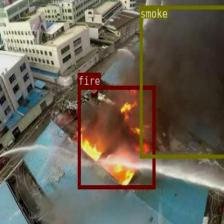fire: (77, 85, 155, 188)
smoke: (139, 5, 224, 157)
